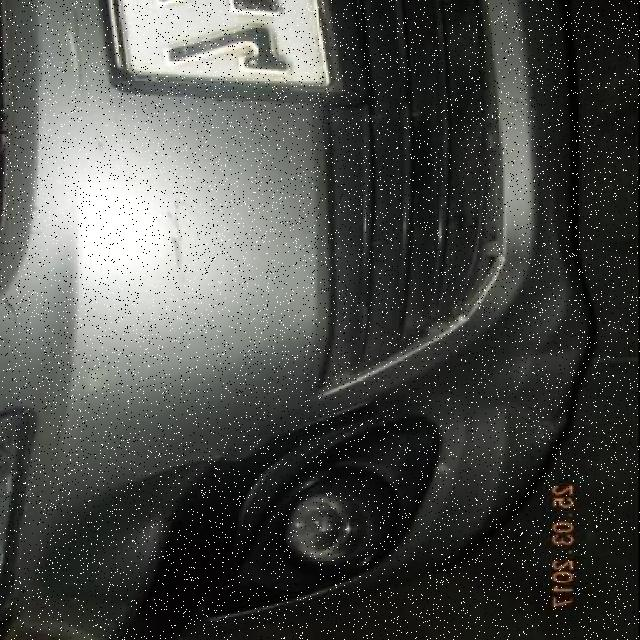damage: (406, 284, 589, 467), (64, 7, 122, 169), (110, 107, 173, 190), (167, 197, 200, 283), (3, 293, 30, 324)
